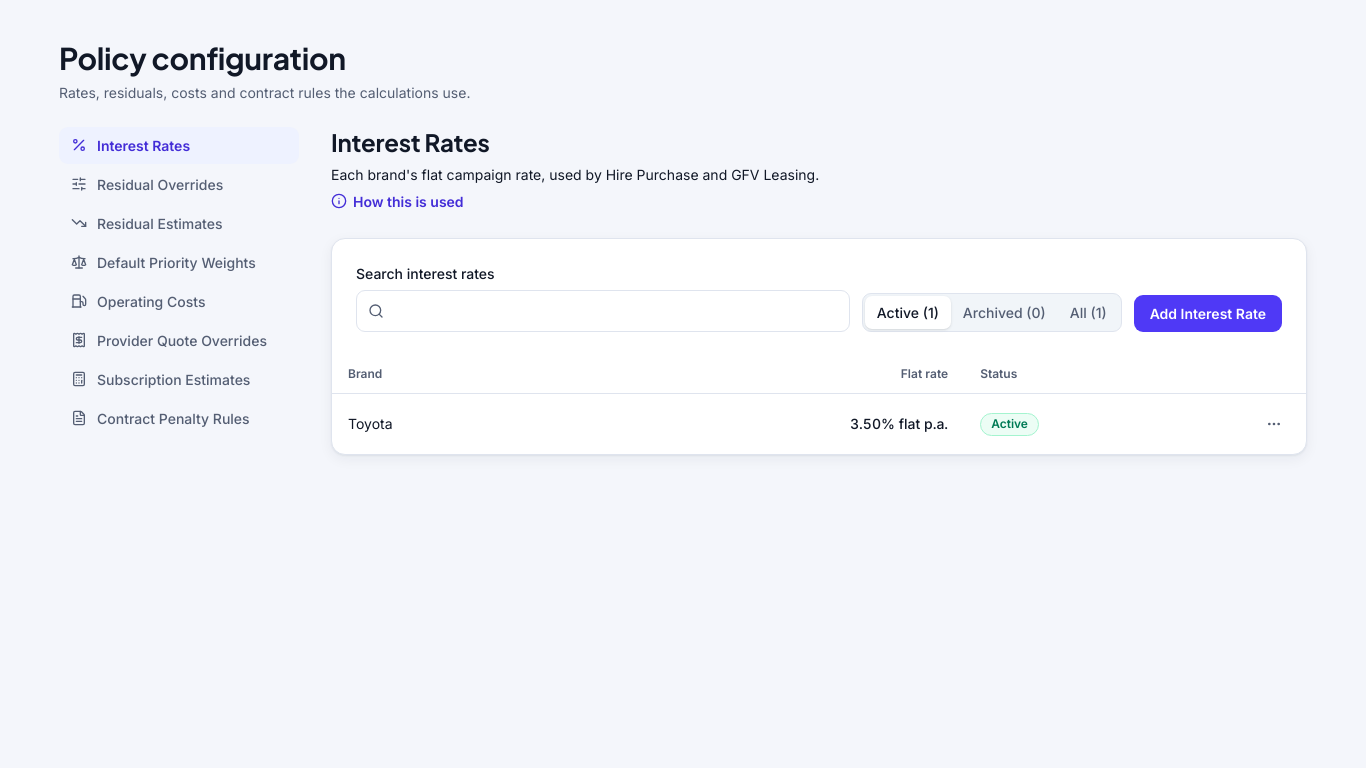
Scenario: AdminPolicyPage › still offers an edited Residual Override's own brand after it was archived
Expected: the text "3.50% flat p.a." is shown, [566, 394, 964, 454]
Click the tab "Residual Overrides". click: (179,184)
box: [59, 166, 299, 202]
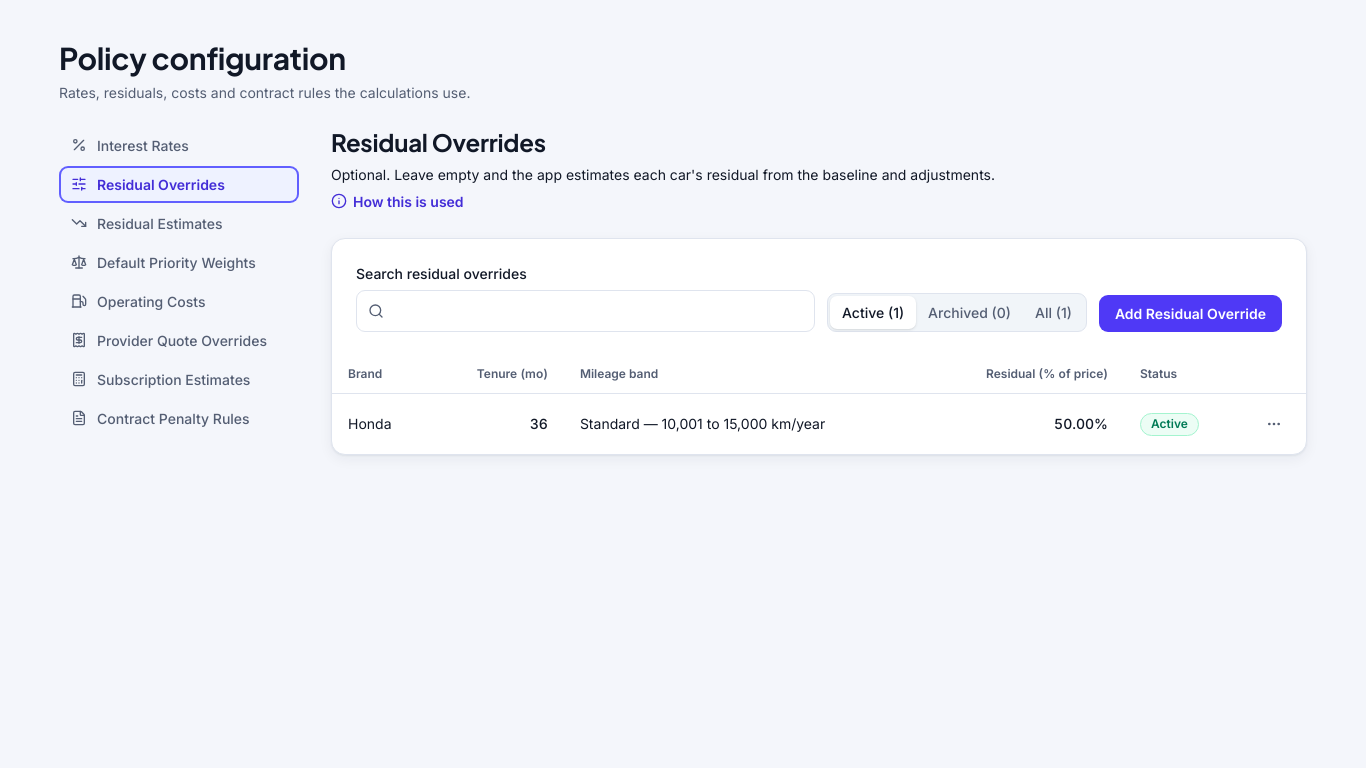
Click the button named "Actions for Honda". click: (1274,424)
box: [1258, 408, 1290, 440]
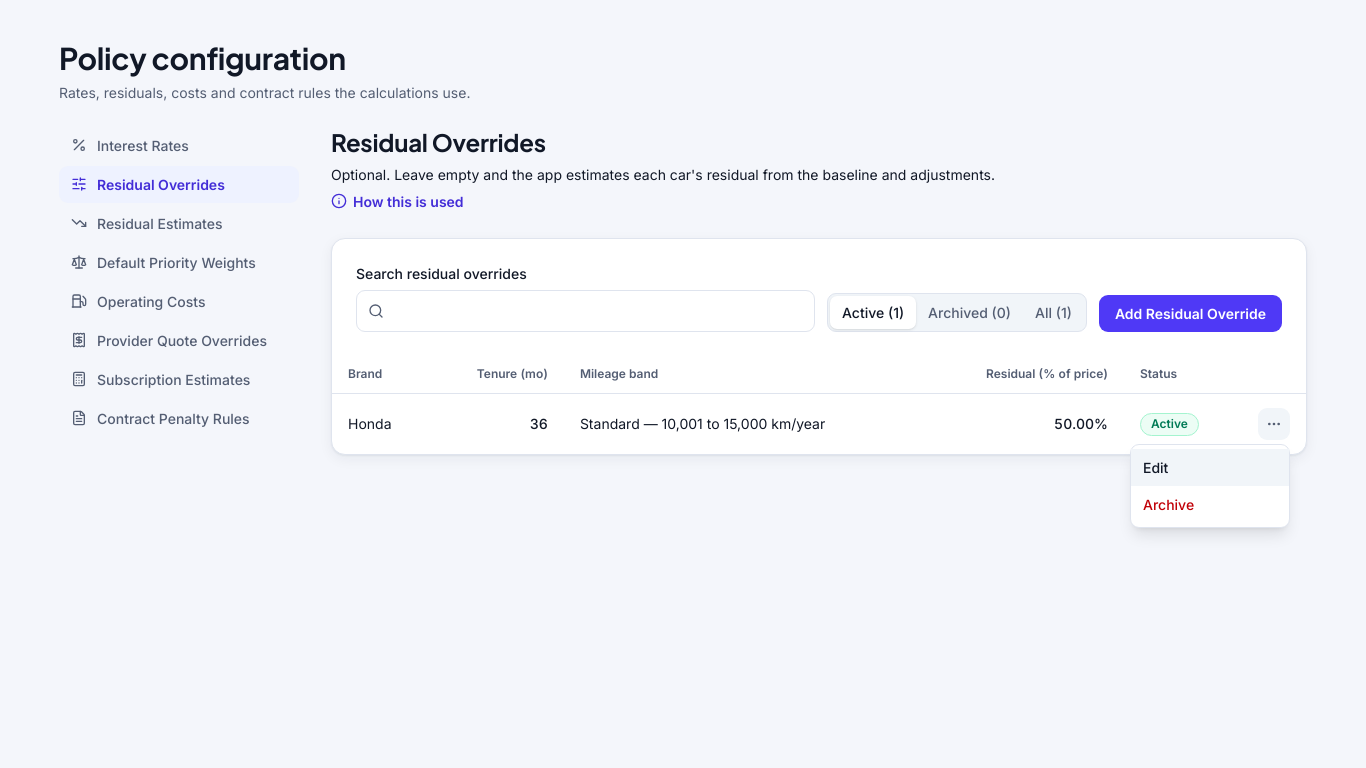
Click the menu item "Edit". click: (1210,468)
box: [1131, 449, 1289, 486]
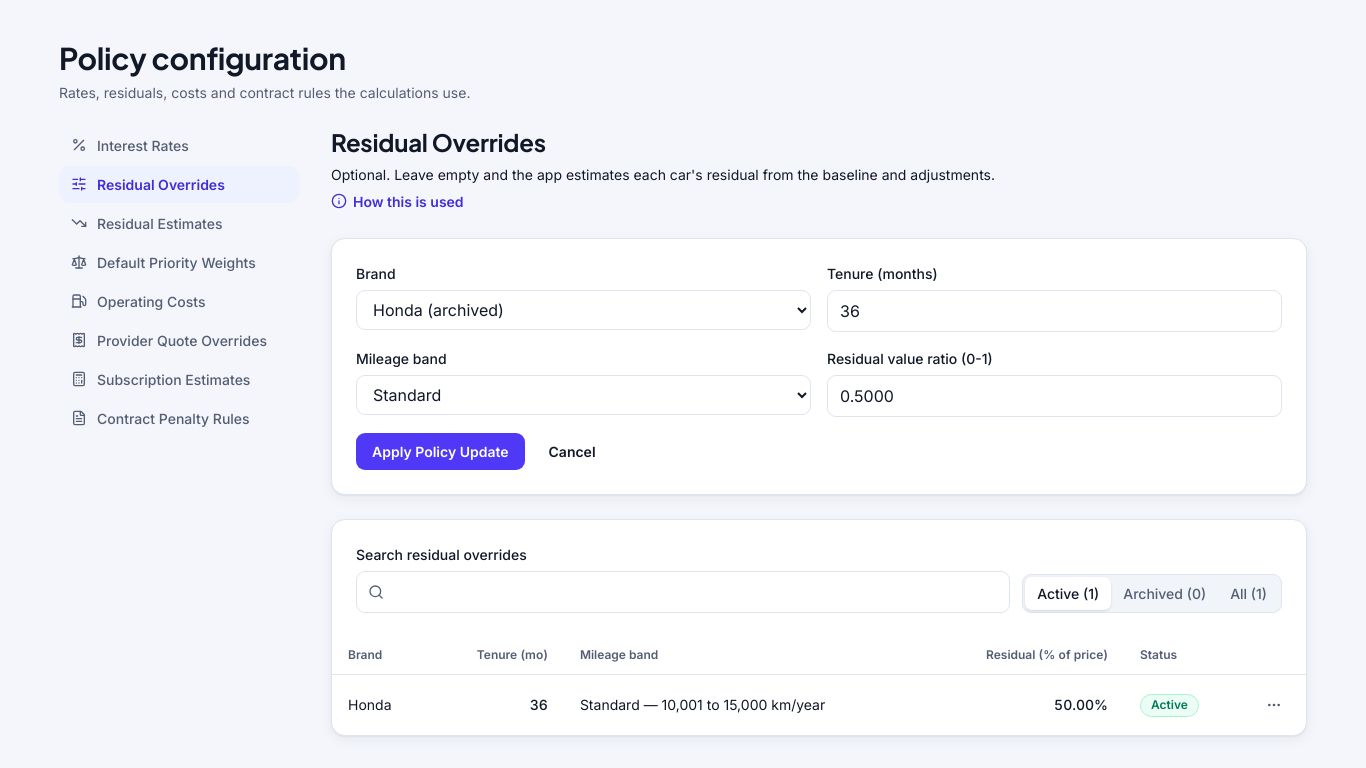
Result: the dropdown labelled "Brand" shows "Honda (archived)" at [356, 290, 811, 330]
